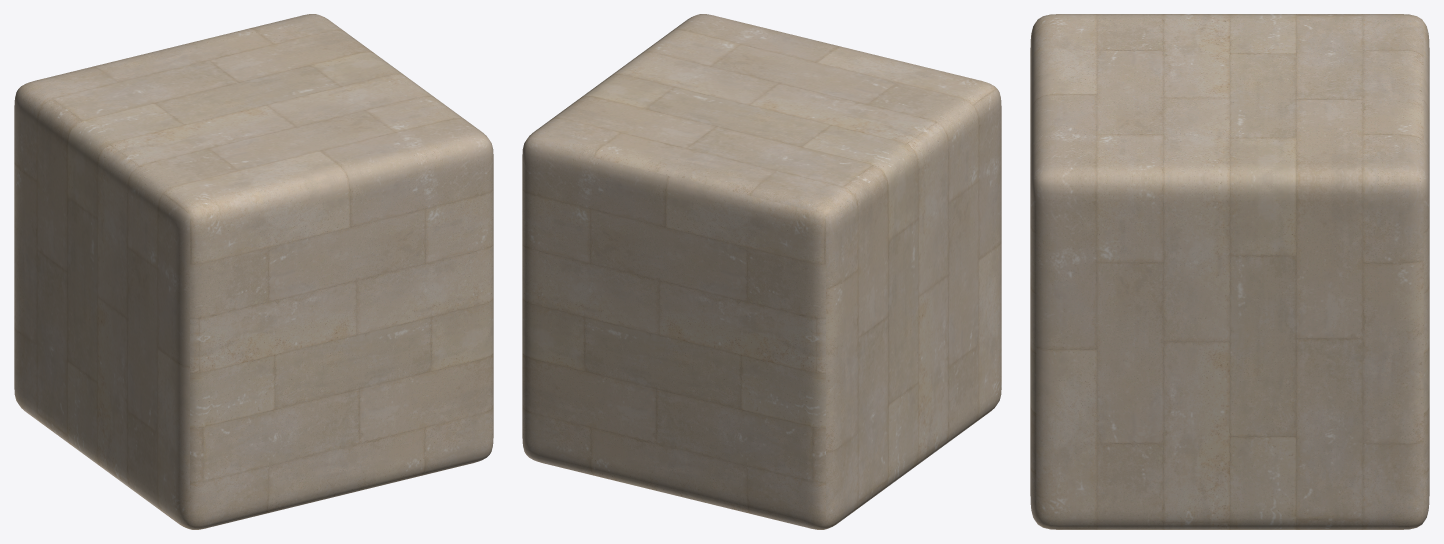
The model's file is Cubes.gltf.
3 renders of one model, left to right at view 1: azimuth 30°, elevation 25°; view 2: azimuth 150°, elevation 25°; view 3: azimuth 270°, elevation 25°, orthographic. The views are drawn at different scales.
Parts seen in each view (by area): view 1: Cube_Brick_Beige; view 2: Cube_Brick_Beige; view 3: Cube_Brick_Beige.
Boxes of the visible parts, box(x1,y1,x2,y2) form: Cube_Brick_Beige: box(14, 14, 493, 529); Cube_Brick_Beige: box(522, 14, 1001, 529); Cube_Brick_Beige: box(1030, 14, 1429, 529).
Size of the model in its own units: 2 by 2 by 2.
Materials: 5 (5 with a texture image).
